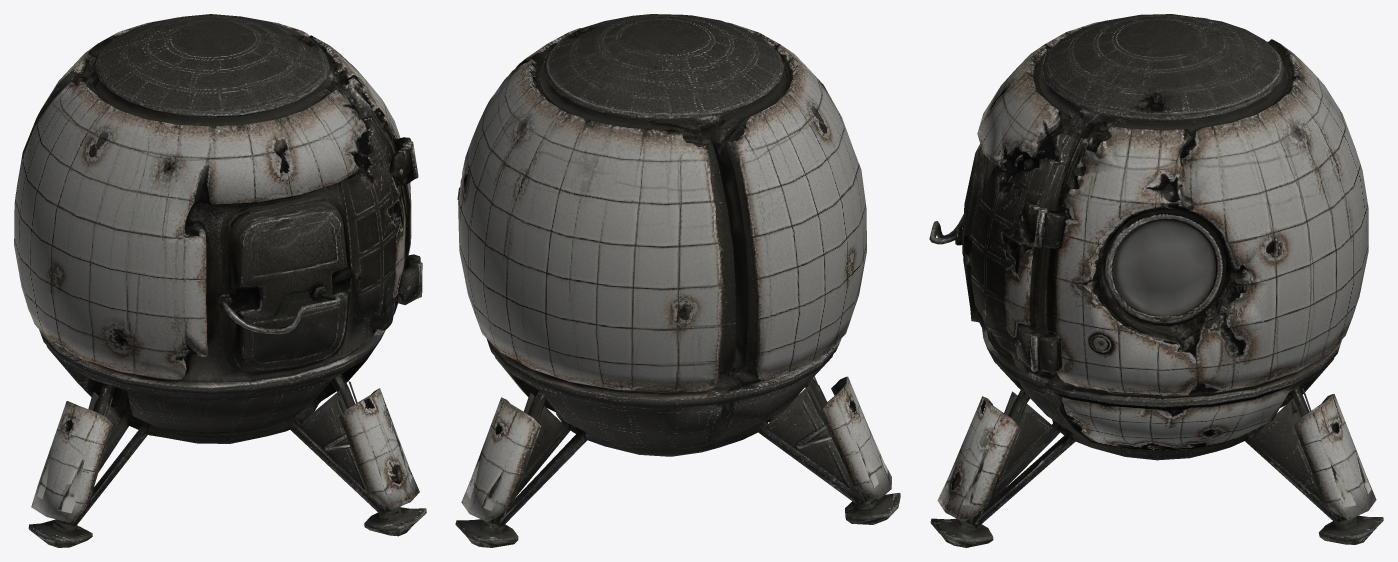
File: tripo_convert_93c20735-cffb-4e55-a1d6-f07468a7be1e.fbx
3 renders of one model, left to right at view 1: azimuth 30°, elevation 25°; view 2: azimuth 150°, elevation 25°; view 3: azimuth 270°, elevation 25°, orthographic. The views are drawn at different scales.
Visible parts, largest first — view 1: tripo_node_93c20735; view 2: tripo_node_93c20735; view 3: tripo_node_93c20735.
Part boxes in pixels (bbox=[...]): tripo_node_93c20735: bbox=[14, 14, 426, 547]; tripo_node_93c20735: bbox=[455, 14, 900, 547]; tripo_node_93c20735: bbox=[929, 14, 1383, 547].
Size of the model in its own units: 0.8887 by 0.998 by 0.8887.
1 material, 1 textured.
